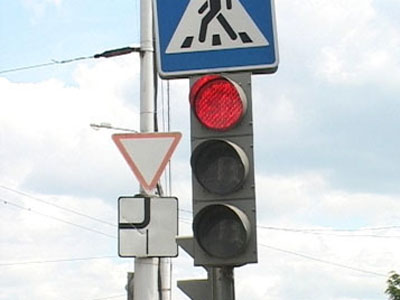crosswalk: (153, 1, 276, 66)
trafficlight_red: (190, 69, 250, 269)
